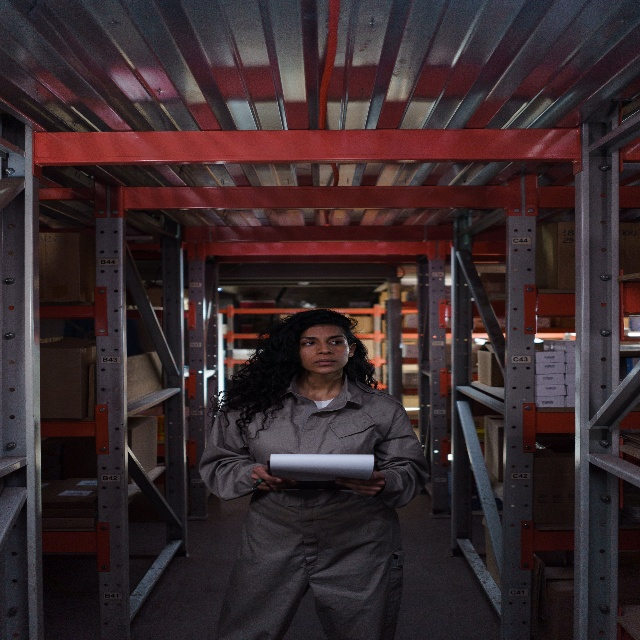Sin_guantes: (250, 464, 297, 491), (335, 474, 386, 497)
